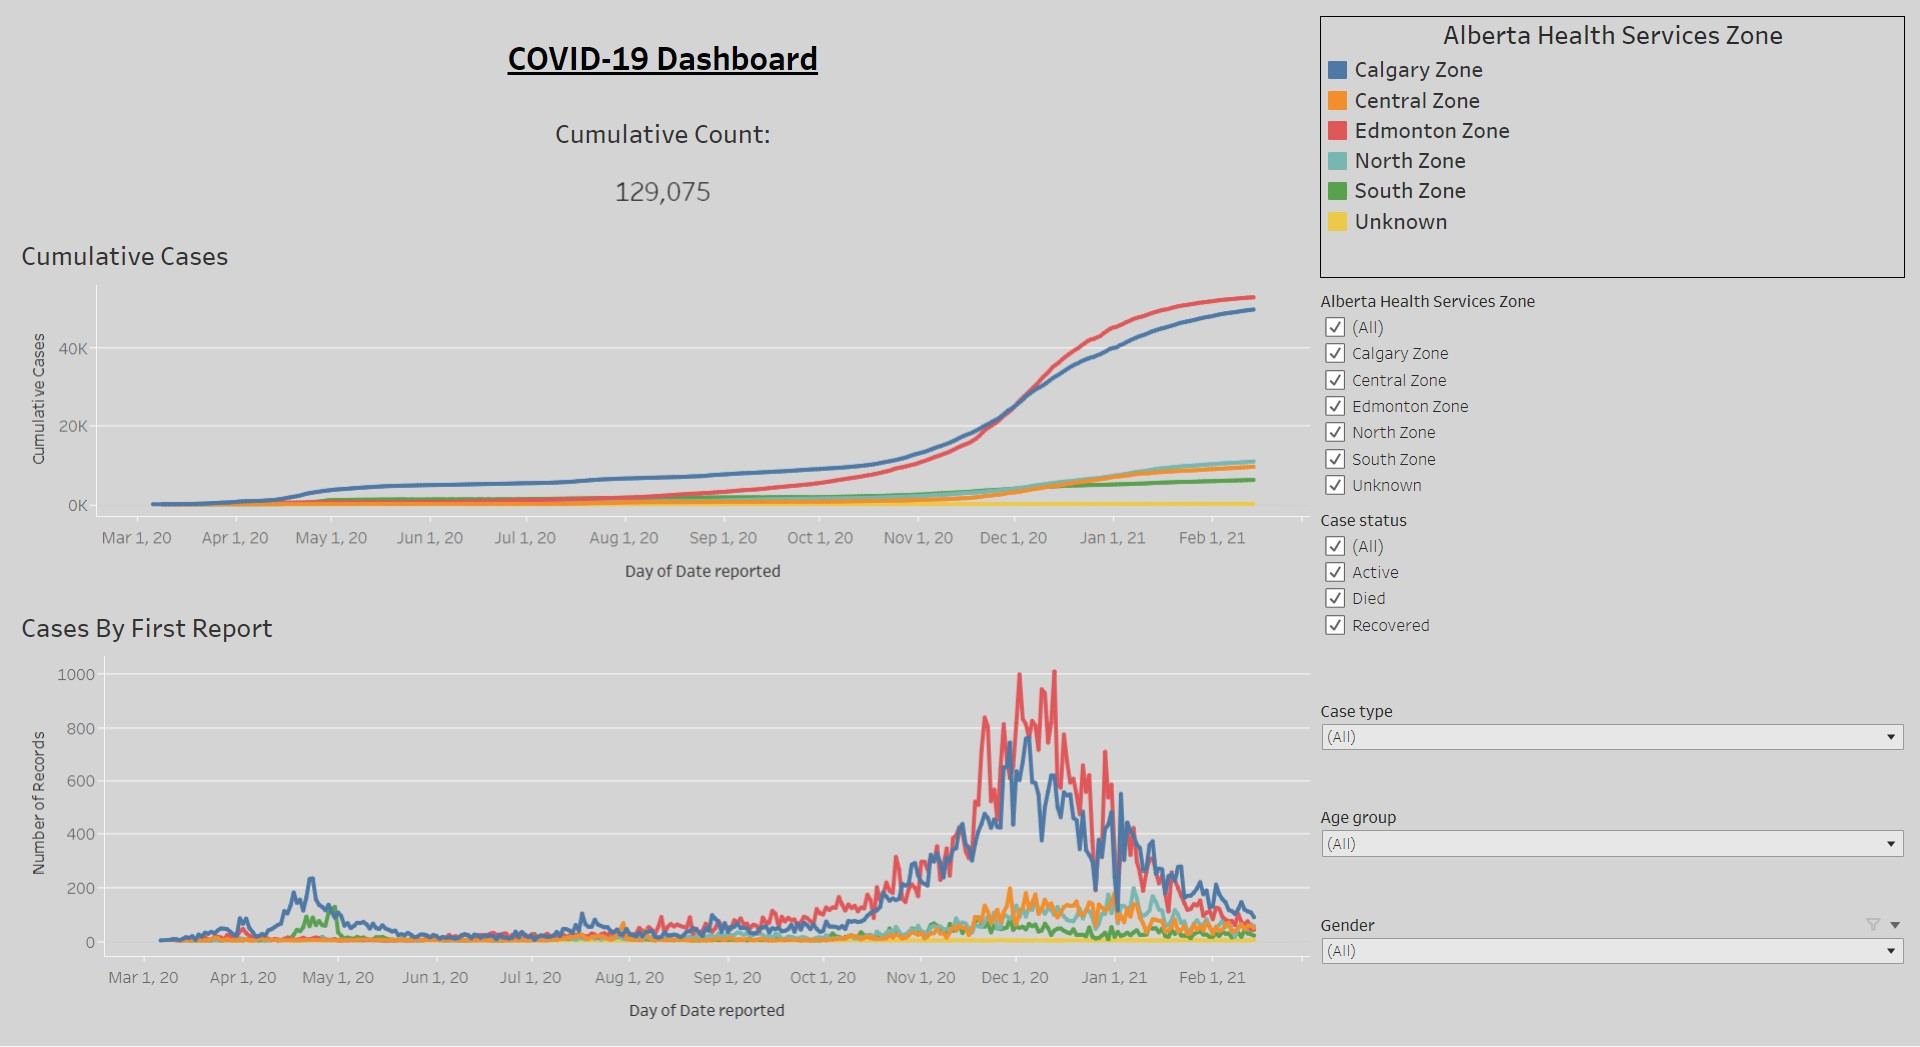

Layout of this report page (visuals, bound fields, positions):
{"tool":"tableau","page":{"name":"COVID-19 Dashboard","canvas":[1000,1000],"units":"permille","ordinal":0},"visuals":[{"type":"worksheet","box":[0,0,1000,1000]},{"type":"worksheet","param":"horz","box":[4.8,9.2,990.4,981.7]},{"type":"worksheet","box":[4.8,9.2,719.4,981.7]},{"type":"worksheet","box":[4.8,9.2,719.4,87.1]},{"type":"worksheet","box":[724.2,9.2,271,981.7]},{"type":"worksheet","param":"vert","box":[724.2,9.2,271,261.2]},{"type":"worksheet","title":"Cumulative Cases","mark":"Automatic","rows":["Calculation_3524066722616836098"],"cols":["Date reported"],"param":"[federated.0xp8ije001x6t81bxwa6c0mnyocb].[none:Alberta Health Services Zone:nk]","box":[724.2,9.2,271,261.2]},{"type":"worksheet","title":"Cumulative Count","mark":"Automatic","box":[4.8,96.3,719.4,117]},{"type":"worksheet","title":"Cumulative Cases","mark":"Automatic","rows":["Calculation_3524066722616836098"],"cols":["Date reported"],"box":[4.8,213.3,719.4,356.3]},{"type":"worksheet","param":"vert","box":[724.2,270.4,271,720.5]},{"type":"worksheet","title":"Cases By First Reported Date","mark":"Automatic","rows":["Calculation_3524066722615468033"],"cols":["Date reported"],"param":"[federated.0xp8ije001x6t81bxwa6c0mnyocb].[none:Alberta Health Services Zone:nk]","box":[724.2,270.4,271,229.3]},{"type":"worksheet","title":"Cases By First Reported Date","mark":"Automatic","rows":["Calculation_3524066722615468033"],"cols":["Date reported"],"param":"[federated.0xp8ije001x6t81bxwa6c0mnyocb].[none:Case status:nk]","box":[724.2,499.7,271,166.3]},{"type":"worksheet","title":"Cases By First Reported Date","mark":"Automatic","rows":["Calculation_3524066722615468033"],"cols":["Date reported"],"box":[4.8,569.6,719.4,421.2]},{"type":"worksheet","title":"Cases By First Reported Date","mark":"Automatic","rows":["Calculation_3524066722615468033"],"cols":["Date reported"],"param":"[federated.0xp8ije001x6t81bxwa6c0mnyocb].[none:Case type:nk]","box":[724.2,666,271,92.9]},{"type":"worksheet","title":"Cases By First Reported Date","mark":"Automatic","rows":["Calculation_3524066722615468033"],"cols":["Date reported"],"param":"[federated.0xp8ije001x6t81bxwa6c0mnyocb].[none:Age group:nk]","box":[724.2,758.9,271,92.9]},{"type":"worksheet","title":"Cases By First Reported Date","mark":"Automatic","rows":["Calculation_3524066722615468033"],"cols":["Date reported"],"param":"[federated.0xp8ije001x6t81bxwa6c0mnyocb].[none:Gender:nk]","box":[724.2,851.8,271,111.2]}]}

Visuals, with their boxes on the dashboard's canvas, which has no fixed pixel size, in thousandths of its width and height (x1, y1, x2, y2). These are canvas units, not pixel positions in the 1920x1047 screenshot, which may show the page scaled, cropped or inside an application window:
worksheet: BBox(0, 0, 1000, 1000)
worksheet: BBox(5, 9, 995, 991)
worksheet: BBox(5, 9, 724, 991)
worksheet: BBox(5, 9, 724, 96)
worksheet: BBox(724, 9, 995, 991)
worksheet: BBox(724, 9, 995, 270)
"Cumulative Cases" worksheet: BBox(724, 9, 995, 270)
"Cumulative Count" worksheet: BBox(5, 96, 724, 213)
"Cumulative Cases" worksheet: BBox(5, 213, 724, 570)
worksheet: BBox(724, 270, 995, 991)
"Cases By First Reported Date" worksheet: BBox(724, 270, 995, 500)
"Cases By First Reported Date" worksheet: BBox(724, 500, 995, 666)
"Cases By First Reported Date" worksheet: BBox(5, 570, 724, 991)
"Cases By First Reported Date" worksheet: BBox(724, 666, 995, 759)
"Cases By First Reported Date" worksheet: BBox(724, 759, 995, 852)
"Cases By First Reported Date" worksheet: BBox(724, 852, 995, 963)
